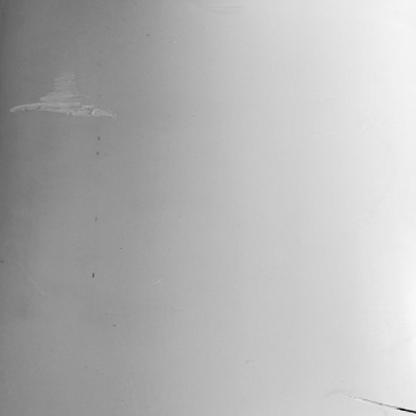sunshang: (4, 74, 123, 121), (339, 392, 416, 416)
